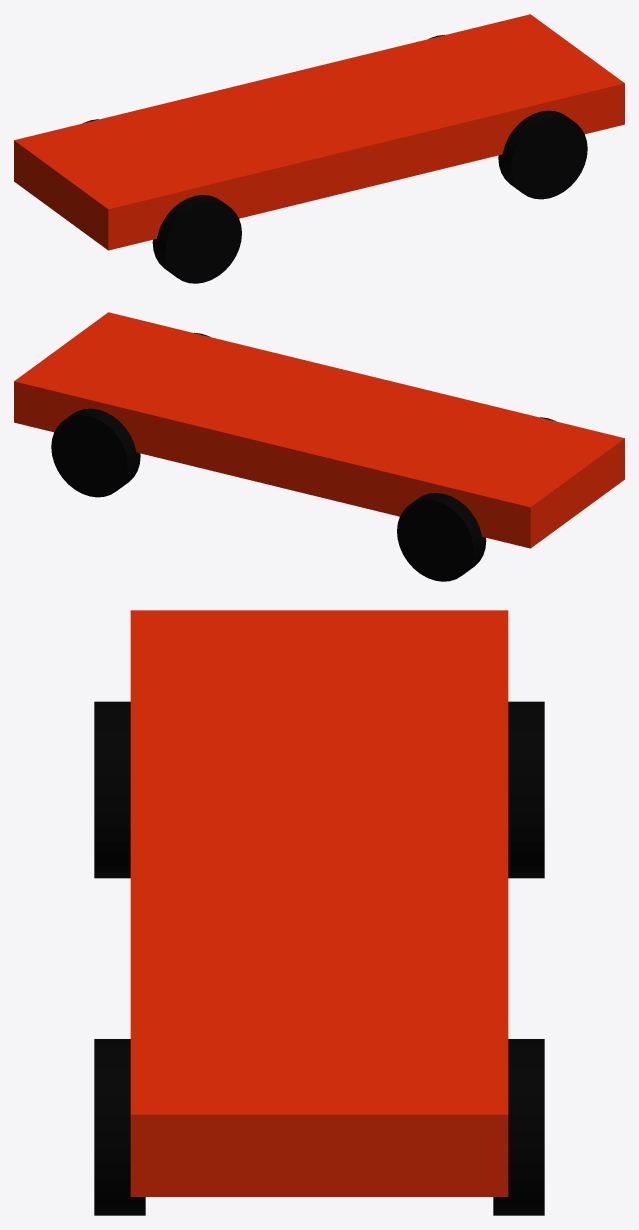
Rendered from carModelB.glb.
3 views of the same model, one above another, from view 1: azimuth 30°, elevation 25°; view 2: azimuth 150°, elevation 25°; view 3: azimuth 270°, elevation 25° (orthographic). The views are drawn at different scales.
Visible parts, largest first — view 1: Body, wheel3, wheel4; view 2: Body, wheel2, wheel1; view 3: Body, wheel2, wheel3, wheel1, wheel4.
Part boxes in pixels (x1,y1,x2,y2): Body: (14,14,624,250); wheel3: (498,110,587,199); wheel4: (152,195,241,283); Body: (14,312,624,548); wheel2: (51,408,140,497); wheel1: (397,493,486,581); Body: (130,610,508,1196); wheel2: (493,1039,544,1215); wheel3: (94,1039,145,1215); wheel1: (508,701,544,878); wheel4: (94,701,130,878).
Bounding box in the file's own units: 2.39 × 0.388 × 0.9029.
